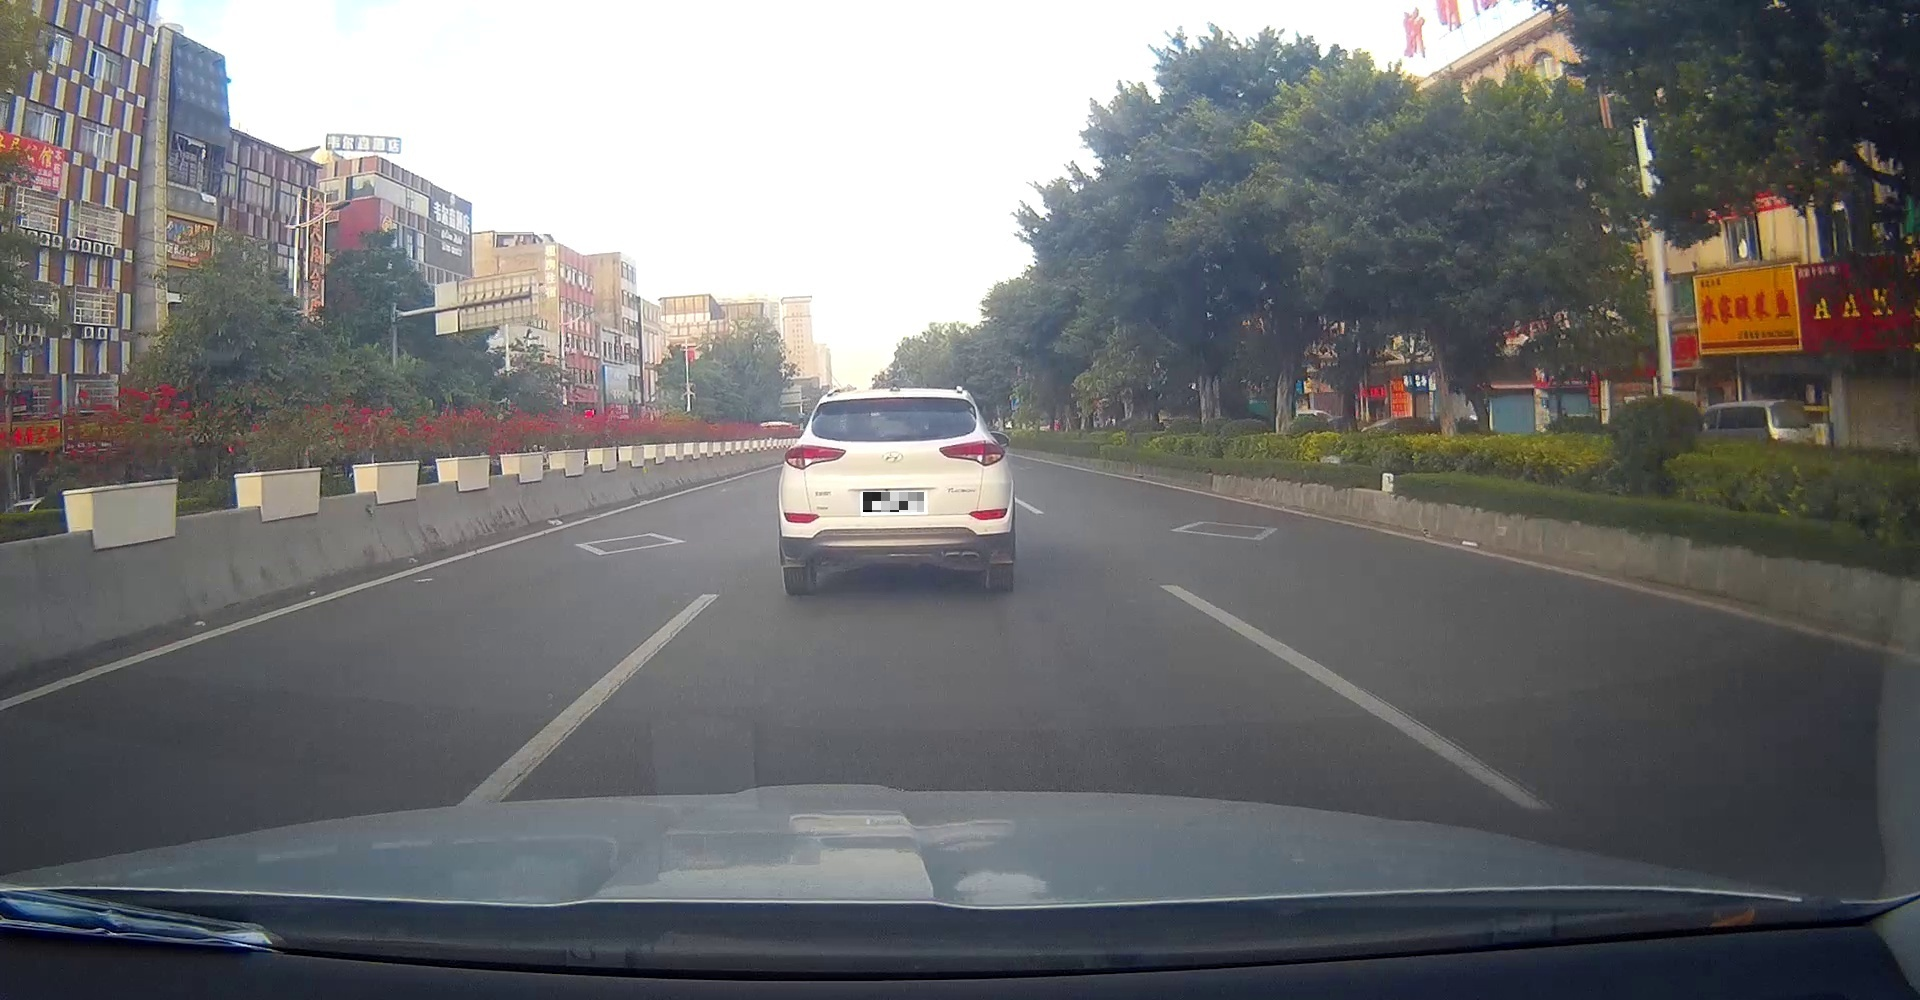L_light: (783, 444, 847, 470)
R_light: (938, 439, 1006, 467)
T_light: (877, 398, 914, 404)
day-no: (778, 387, 1015, 594)
plate_1: (863, 492, 924, 511)
